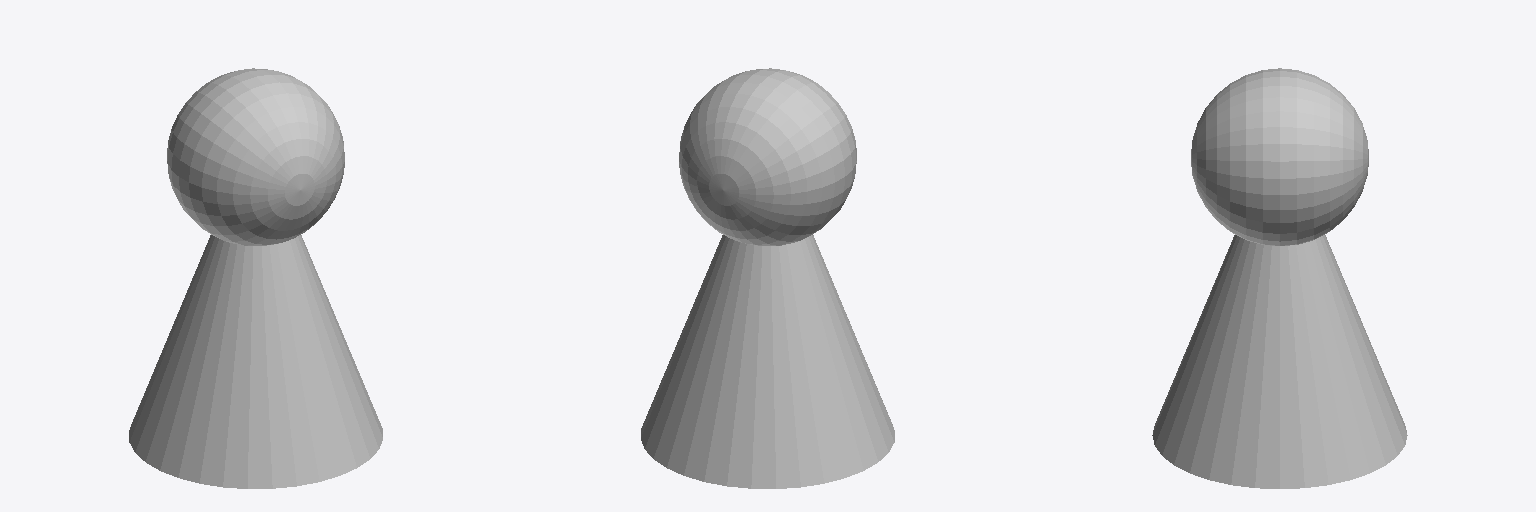
Rendered from trouble_token_simple.obj.
3 renders of one model, left to right at view 1: azimuth 30°, elevation 25°; view 2: azimuth 150°, elevation 25°; view 3: azimuth 270°, elevation 25°, orthographic.
Parts seen in each view (by area): view 1: Cone_Cone.001, Sphere_Sphere.001; view 2: Cone_Cone.001, Sphere_Sphere.001; view 3: Cone_Cone.001, Sphere_Sphere.001.
Part boxes in pixels (x1,y1,x2,y2): Cone_Cone.001: (129, 235, 382, 488); Sphere_Sphere.001: (167, 68, 344, 245); Cone_Cone.001: (641, 235, 894, 488); Sphere_Sphere.001: (679, 68, 856, 245); Cone_Cone.001: (1152, 235, 1407, 488); Sphere_Sphere.001: (1191, 68, 1368, 245).
Bounding box in the file's own units: 0.6 × 0.93 × 0.6.